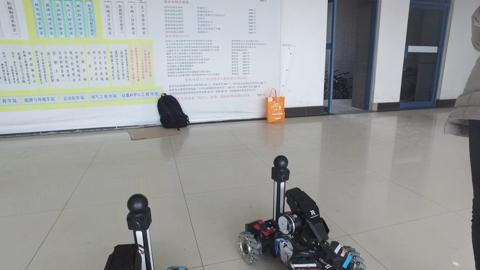bag: (149, 89, 193, 131), (260, 84, 295, 128)
chariot: (228, 147, 375, 270)
